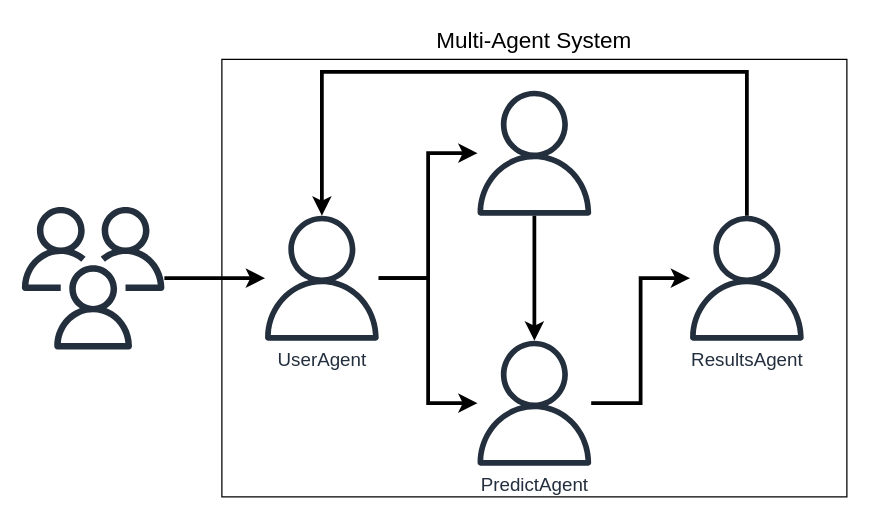
Some shapes in this 869 by 519 pixel diagram are drawn without their labels. Each missing label, with the centre of its shape:
"TrainAgent" goes at [533,152].
"Users" goes at [92,277].
